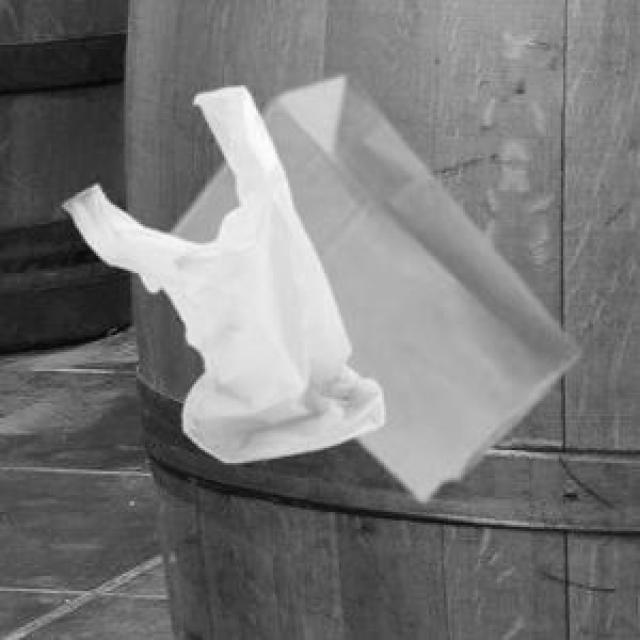paper: (166, 73, 574, 495)
